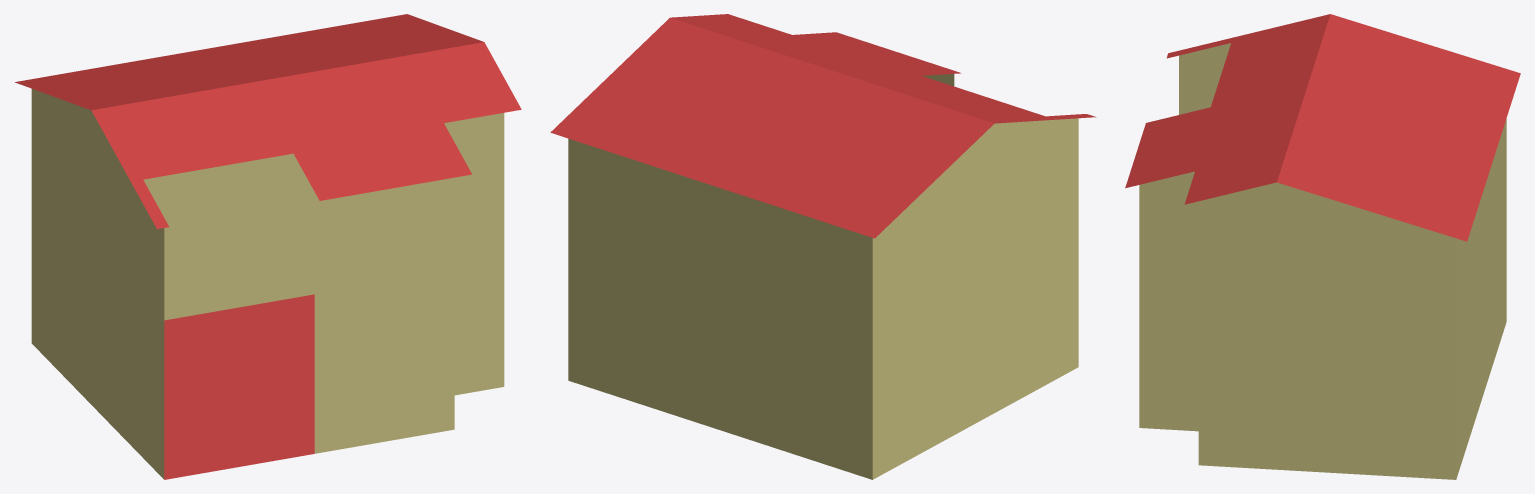
3 views of the same model, side by side, from view 1: azimuth 30°, elevation 25°; view 2: azimuth 150°, elevation 25°; view 3: azimuth 270°, elevation 25° (orthographic). The views are drawn at different scales.
Size of the model in its own units: 17.51 by 15.54 by 12.68.
